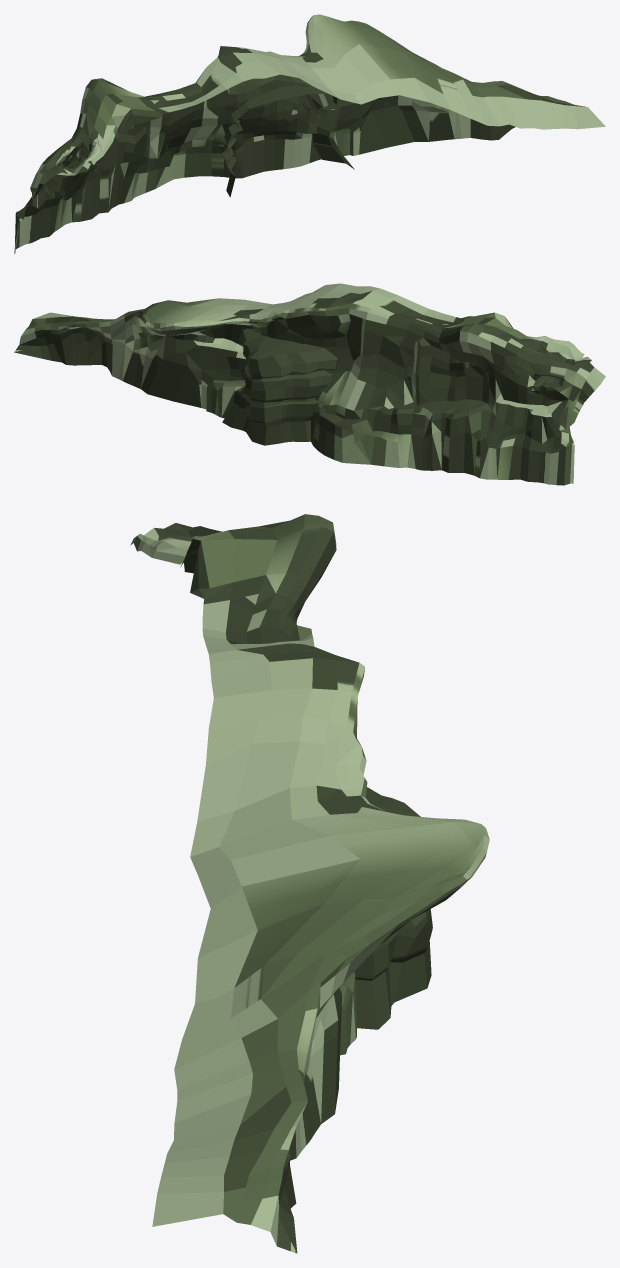
The model's file is EA_Swamp_Clif_02a.glb.
3 renders of one model, top to bottom at view 1: azimuth 30°, elevation 25°; view 2: azimuth 150°, elevation 25°; view 3: azimuth 270°, elevation 25°, orthographic. The views are drawn at different scales.
Parts seen in each view (by area): view 1: EA_Swamp_Clif_02a; view 2: EA_Swamp_Clif_02a; view 3: EA_Swamp_Clif_02a.
Boxes of the visible parts, left/top/right/bottom form: EA_Swamp_Clif_02a: left=14, top=14, right=605, bottom=253; EA_Swamp_Clif_02a: left=14, top=283, right=605, bottom=485; EA_Swamp_Clif_02a: left=130, top=514, right=489, bottom=1253.
Bounding box in the file's own units: 187 × 45.96 × 52.1.
1 material, 1 textured.
